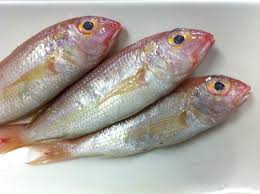Ikan Kerisi: (71, 72, 260, 155), (1, 7, 128, 83), (97, 24, 221, 90)
